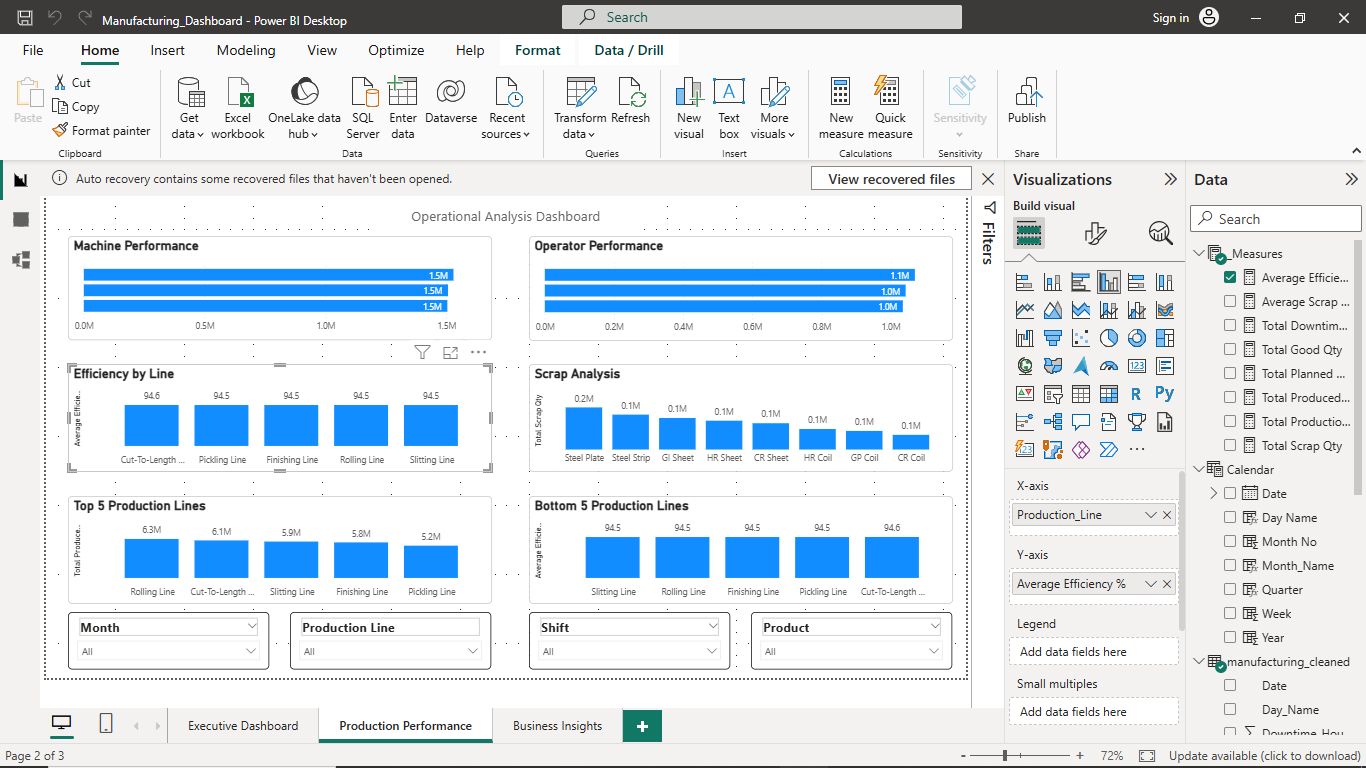

The page's visual inventory and layout, read from the dashboard file:
{"tool":"powerbi","page":{"name":"Production Performance","canvas":[1280,720],"ordinal":1},"visuals":[{"type":"textbox","box":[505,20,270,40],"z":0},{"type":"textbox","box":[459.3,60,361.4,40],"z":1000},{"type":"clusteredBarChart","title":"Machine Performance","fields":{"Category":["manufacturing_cleaned.Machine_ID"],"Y":["_Measures.Total Produced Qty"]},"box":[30,105.7,590,145],"z":2000},{"type":"clusteredBarChart","title":"Operator Performance ","fields":{"Y":["_Measures.Total Produced Qty"],"Category":["manufacturing_cleaned.Operator_ID"]},"box":[671.4,105.7,590,145.7],"z":3000},{"type":"clusteredColumnChart","title":"Efficiency by Line","fields":{"Y":["_Measures.Average Efficiency %"],"Category":["manufacturing_cleaned.Production_Line"]},"box":[30,283.9,590,150],"z":4000},{"type":"clusteredColumnChart","title":"Scrap Analysis","fields":{"Y":["_Measures.Total Scrap Qty"],"Category":["manufacturing_cleaned.Product"]},"box":[671.4,284.3,590,150],"z":5000},{"type":"clusteredColumnChart","title":"Top 5 Production Lines","fields":{"Category":["manufacturing_cleaned.Production_Line"],"Y":["_Measures.Total Produced Qty"]},"box":[30,467.1,590,150],"z":6000},{"type":"clusteredColumnChart","title":"Bottom 5 Production Lines","fields":{"Y":["_Measures.Average Efficiency %"],"Category":["manufacturing_cleaned.Production_Line"]},"box":[671.4,467.1,590,150],"z":7000},{"type":"slicer","fields":{"Values":["Calendar.Month_Name"]},"box":[30,628.6,280,80],"z":8000},{"type":"slicer","fields":{"Values":["manufacturing_cleaned.Production_Line"]},"box":[340,628.6,280,80],"z":9000},{"type":"slicer","fields":{"Values":["manufacturing_cleaned.Shift"]},"box":[671.4,628.6,280,80],"z":10000},{"type":"slicer","fields":{"Values":["manufacturing_cleaned.Product"]},"box":[981.4,628.6,280,80],"z":11000}]}

Visuals, with their boxes on the page's 1280x720 design canvas (x1, y1, x2, y2). These are canvas units, not pixel positions in the 1366x768 screenshot, which may show the page scaled, cropped or inside an application window:
textbox: <bbox>505, 20, 775, 60</bbox>
textbox: <bbox>459, 60, 821, 100</bbox>
"Machine Performance" clusteredBarChart: <bbox>30, 106, 620, 251</bbox>
"Operator Performance " clusteredBarChart: <bbox>671, 106, 1261, 251</bbox>
"Efficiency by Line" clusteredColumnChart: <bbox>30, 284, 620, 434</bbox>
"Scrap Analysis" clusteredColumnChart: <bbox>671, 284, 1261, 434</bbox>
"Top 5 Production Lines" clusteredColumnChart: <bbox>30, 467, 620, 617</bbox>
"Bottom 5 Production Lines" clusteredColumnChart: <bbox>671, 467, 1261, 617</bbox>
slicer - Calendar.Month_Name: <bbox>30, 629, 310, 709</bbox>
slicer - manufacturing_cleaned.Production_Line: <bbox>340, 629, 620, 709</bbox>
slicer - manufacturing_cleaned.Shift: <bbox>671, 629, 951, 709</bbox>
slicer - manufacturing_cleaned.Product: <bbox>981, 629, 1261, 709</bbox>
